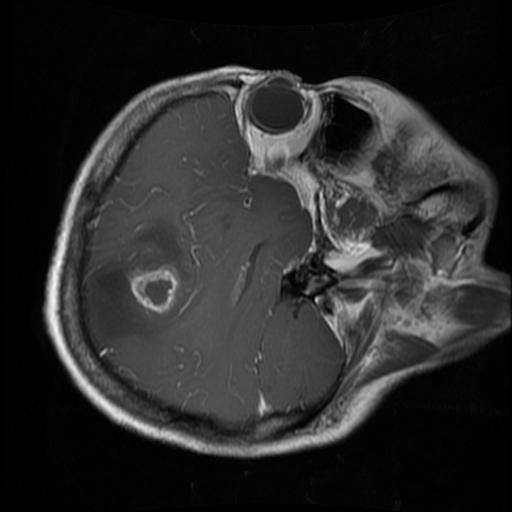glioma: (87, 222, 185, 352)
